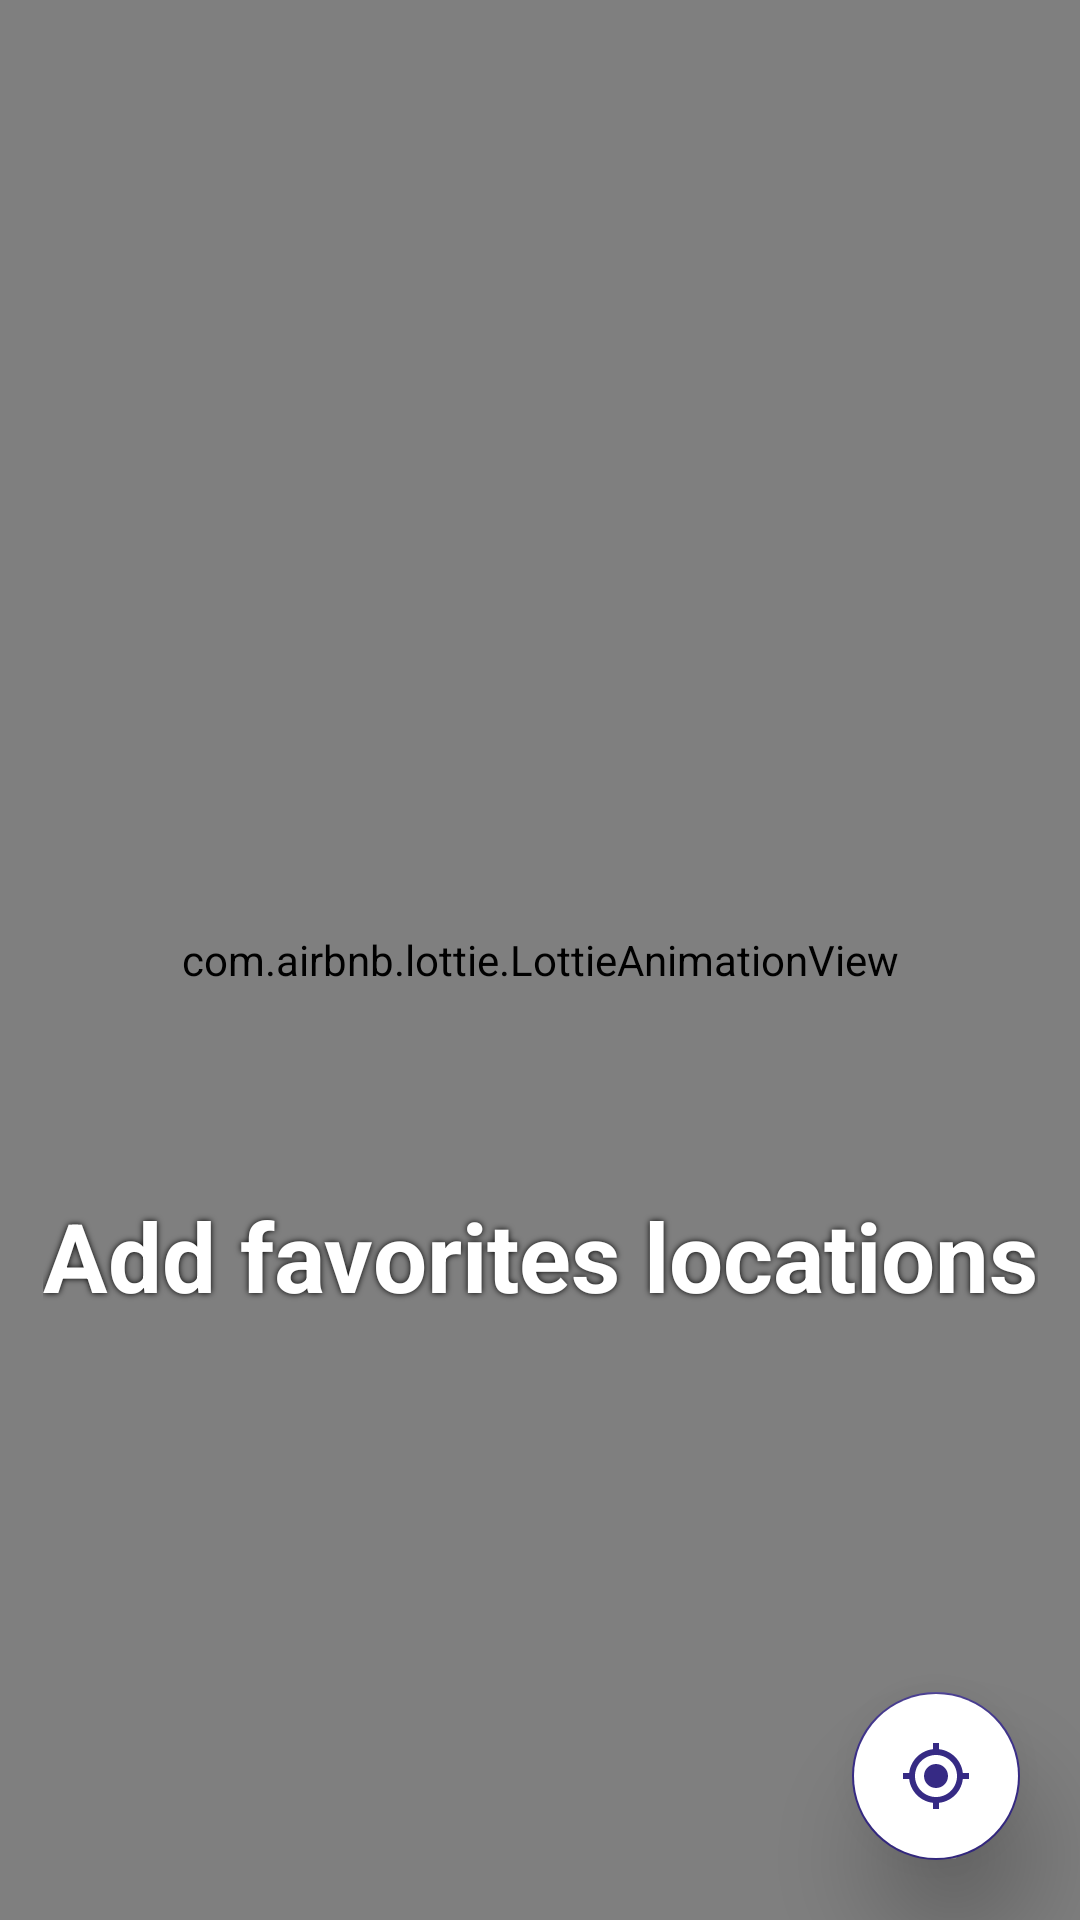

Named icons in this screenshot (1080x1920) and their centers, (x,y):
location: (936,1776)
